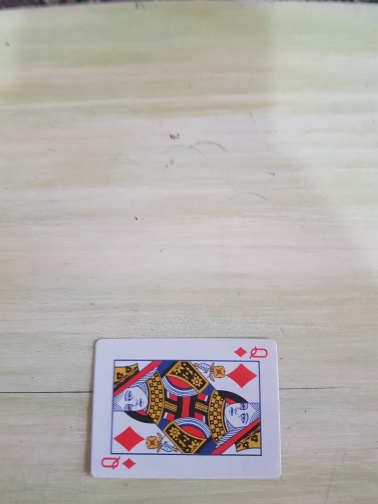queen: (88, 337, 282, 481)
